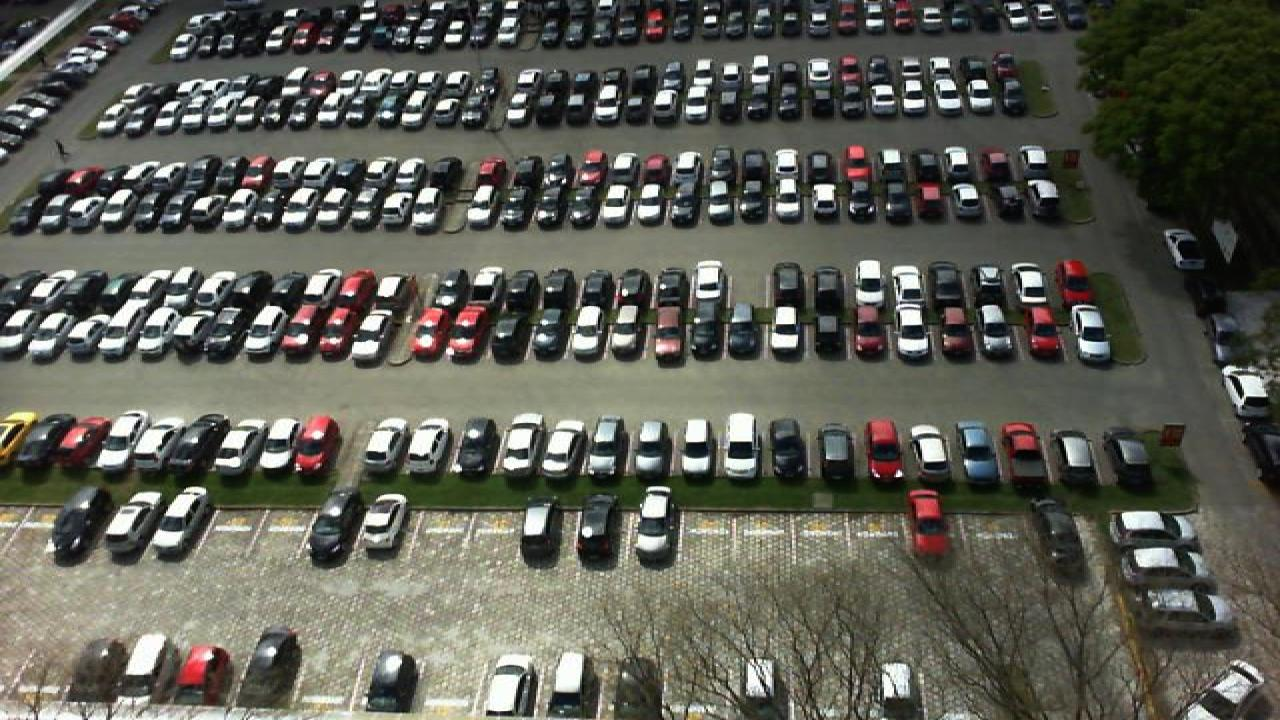Car: (238, 628, 304, 711), (1120, 577, 1236, 623), (44, 487, 110, 564), (150, 485, 216, 553), (116, 632, 176, 703), (1032, 491, 1090, 564), (170, 643, 232, 710), (302, 485, 358, 557), (478, 651, 536, 720), (98, 495, 164, 555), (626, 484, 678, 560), (364, 650, 422, 717), (544, 649, 598, 720), (162, 413, 226, 472), (904, 486, 956, 558), (566, 490, 620, 558), (1116, 542, 1224, 576), (998, 420, 1050, 488), (92, 410, 150, 468), (1222, 362, 1280, 420), (50, 414, 112, 468), (400, 416, 454, 477), (1108, 510, 1214, 541), (290, 413, 342, 475), (124, 417, 182, 472), (1102, 425, 1154, 486), (450, 415, 500, 478), (356, 418, 408, 478), (494, 413, 544, 475), (1050, 426, 1100, 488), (356, 492, 408, 551), (14, 414, 74, 465), (538, 417, 588, 477), (864, 416, 908, 483), (514, 499, 562, 560), (764, 418, 810, 481), (212, 421, 264, 476), (252, 417, 300, 475), (586, 413, 630, 476), (908, 422, 952, 484), (722, 412, 764, 476), (952, 423, 998, 481), (678, 415, 720, 478), (816, 420, 858, 481), (632, 420, 674, 478), (1158, 227, 1208, 270), (0, 410, 40, 463)
